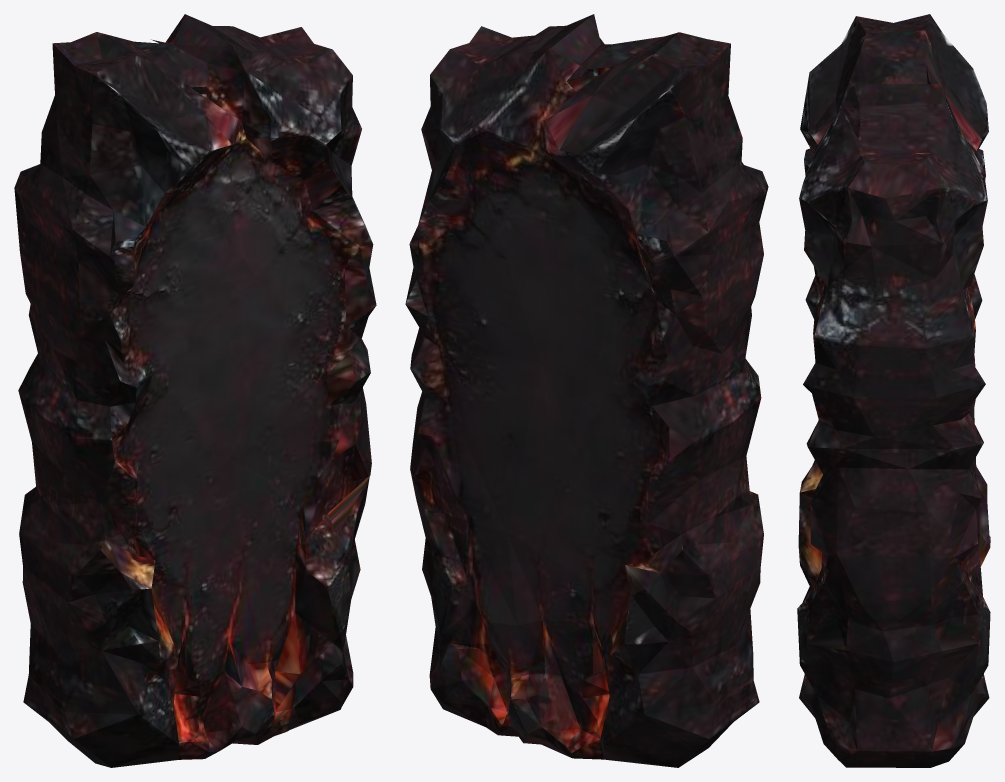
The model's file is glif-red.glb.
3 renders of one model, left to right at view 1: azimuth 30°, elevation 25°; view 2: azimuth 150°, elevation 25°; view 3: azimuth 270°, elevation 25°, orthographic. The views are drawn at different scales.
Parts seen in each view (by area): view 1: Mesh_0.001; view 2: Mesh_0.001; view 3: Mesh_0.001.
Boxes of the visible parts, left/top/right/bottom form: Mesh_0.001: left=14, top=14, right=376, bottom=767; Mesh_0.001: left=405, top=14, right=768, bottom=767; Mesh_0.001: left=797, top=14, right=990, bottom=767.
Bounding box in the file's own units: 0.8551 × 1.9 × 0.5089.
Materials: 1 (1 with a texture image).
